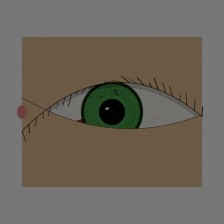hemorrhage_spot: (57, 100, 132, 160)
